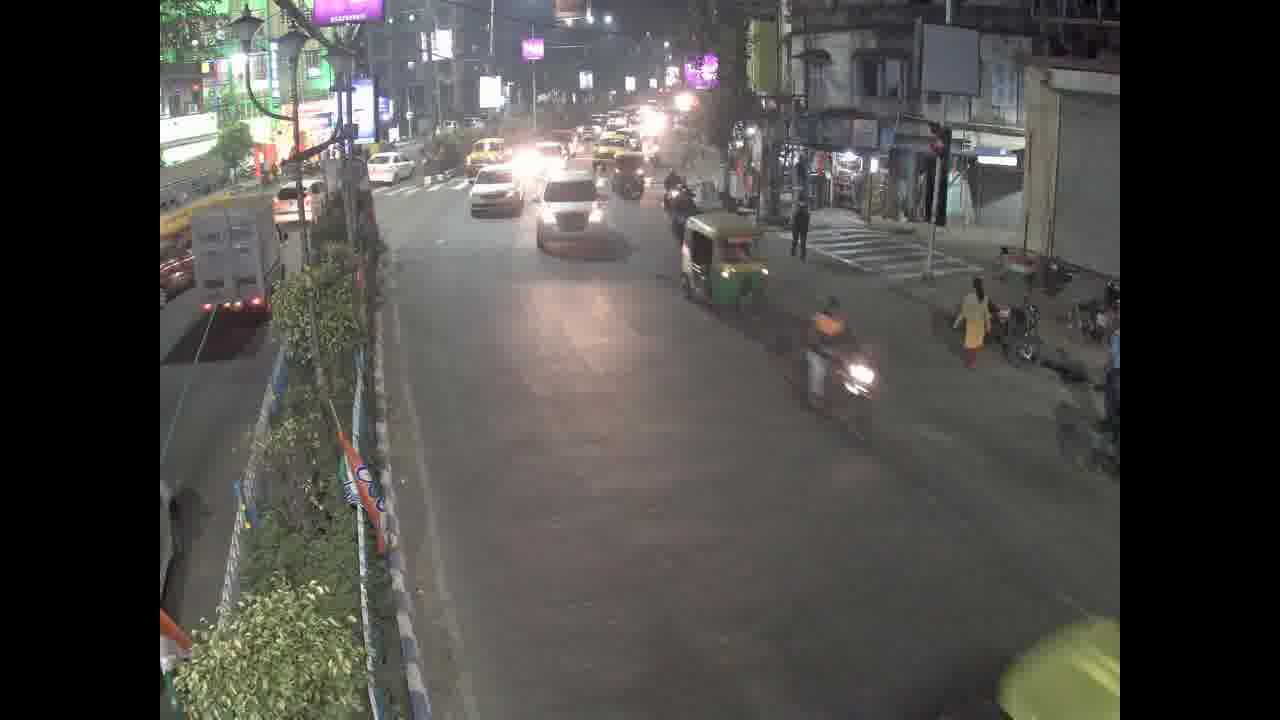auto-rickshaw: (683, 217, 770, 310), (610, 148, 650, 205)
bike: (773, 323, 880, 439)
car: (541, 175, 609, 243), (472, 164, 521, 217), (467, 135, 508, 159)
person: (803, 279, 845, 392), (952, 271, 987, 377), (786, 192, 814, 268)
